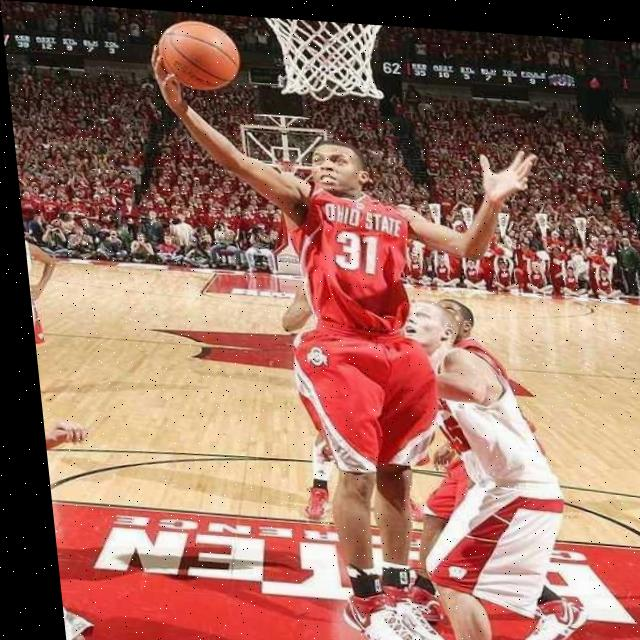basketball: (152, 17, 246, 96)
hoop: (262, 17, 391, 106)
